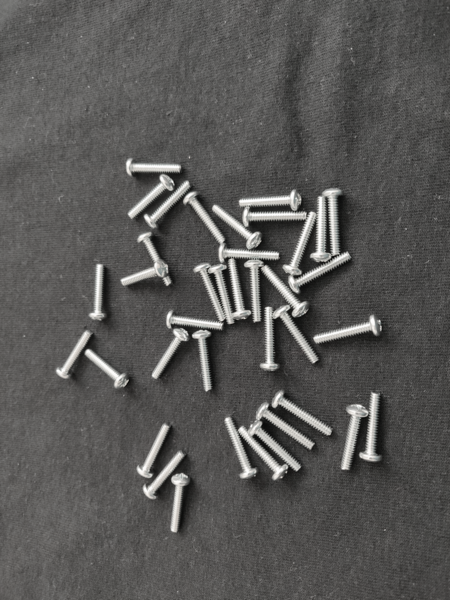longscrew: (269, 388, 335, 438), (253, 401, 318, 450), (247, 418, 304, 472), (237, 425, 290, 482), (272, 305, 323, 364), (287, 250, 355, 293), (260, 263, 309, 320), (282, 209, 319, 278), (142, 449, 189, 502), (184, 190, 227, 247), (143, 180, 193, 229), (222, 414, 258, 482), (126, 174, 178, 220), (314, 315, 386, 347), (82, 346, 132, 392), (212, 204, 264, 248), (135, 420, 173, 480), (339, 402, 370, 474), (152, 327, 193, 381), (137, 232, 174, 289), (56, 328, 94, 381), (194, 262, 227, 322), (206, 262, 236, 327), (359, 391, 385, 464), (226, 255, 252, 323), (322, 186, 346, 259), (309, 195, 333, 265), (168, 474, 193, 536), (165, 308, 226, 333), (259, 304, 281, 373), (242, 207, 310, 229), (243, 259, 267, 321), (238, 189, 304, 211), (193, 328, 214, 396), (119, 261, 169, 288), (216, 243, 280, 264), (89, 261, 110, 324), (125, 159, 184, 179)
